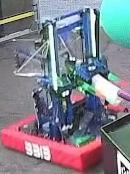red_number: (21, 139, 54, 162)
